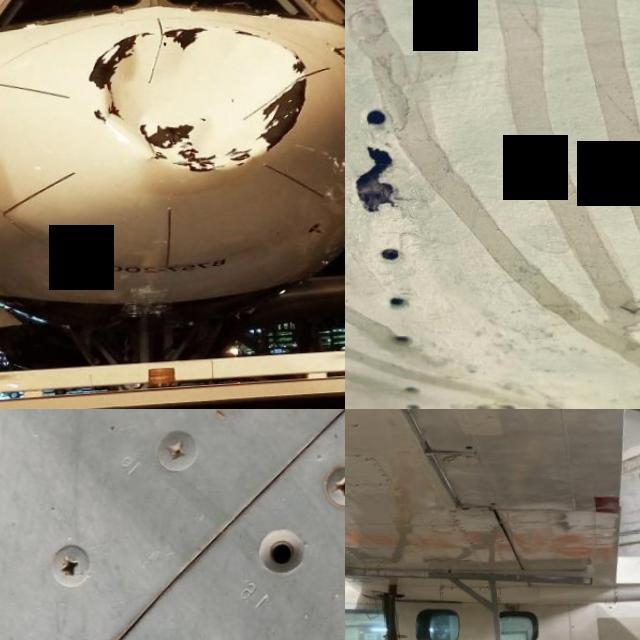Crack: (345, 130, 432, 246)
Dent: (83, 33, 304, 171)
Missing_Fastener: (240, 514, 324, 603), (122, 622, 206, 640)
